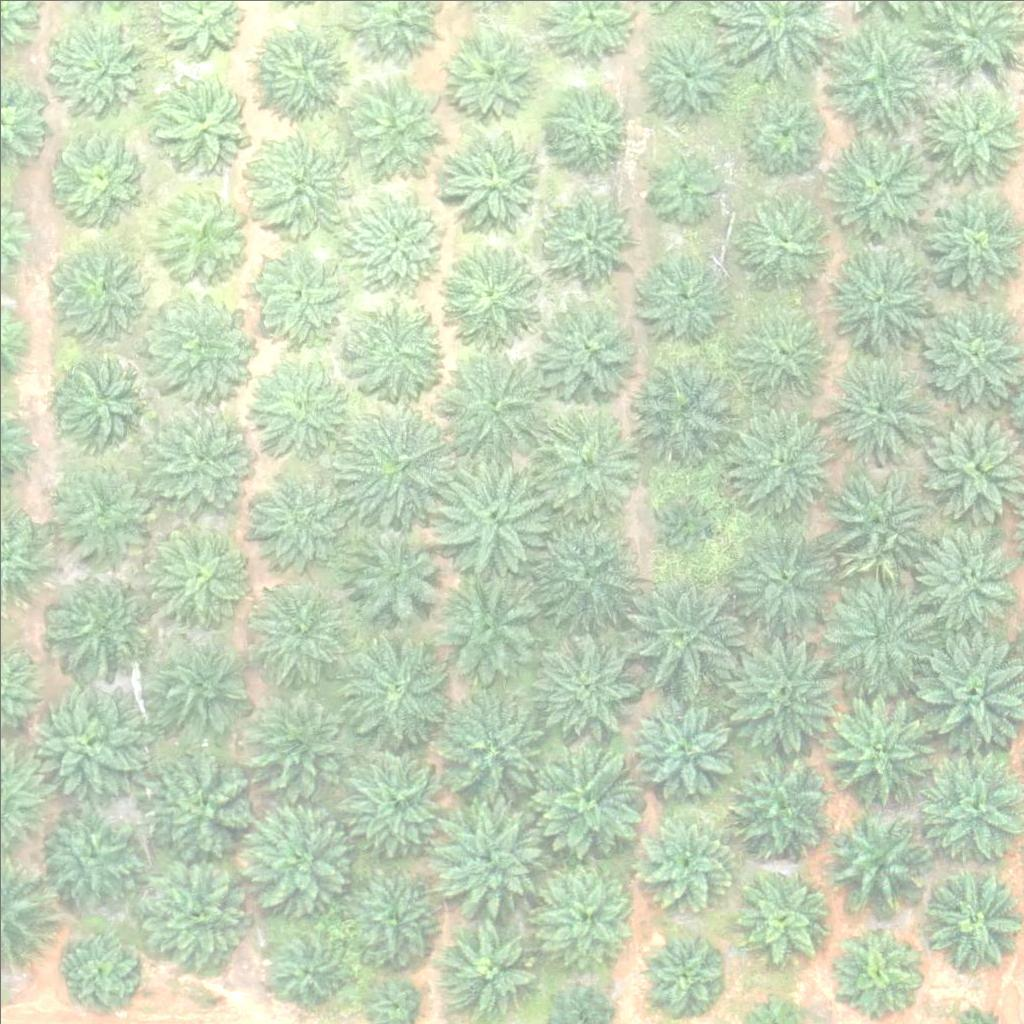Kelapa_Sawit: (820, 568, 945, 694), (724, 626, 849, 752), (619, 567, 744, 693), (518, 736, 643, 862), (522, 507, 647, 633), (435, 687, 560, 813), (425, 456, 550, 582), (330, 625, 455, 751), (335, 400, 460, 526), (130, 852, 255, 978), (142, 741, 267, 867), (137, 394, 262, 520), (22, 677, 147, 803), (429, 342, 554, 468), (334, 734, 459, 859), (815, 15, 940, 140), (822, 689, 935, 803), (722, 748, 835, 862), (623, 353, 736, 467), (730, 522, 843, 635), (725, 405, 838, 518), (433, 800, 546, 913), (432, 568, 545, 681), (337, 512, 450, 625), (238, 458, 351, 571), (146, 283, 259, 396), (250, 350, 363, 463), (817, 240, 930, 353), (820, 127, 933, 240), (526, 404, 638, 518), (824, 470, 936, 583), (623, 688, 735, 801), (532, 631, 644, 744), (245, 797, 357, 910), (244, 685, 356, 798), (727, 291, 839, 404), (822, 357, 934, 470), (639, 807, 739, 908), (535, 866, 635, 967), (435, 918, 535, 1019), (346, 864, 446, 965), (147, 630, 247, 731), (146, 529, 246, 630), (39, 574, 139, 675), (51, 469, 151, 570), (55, 352, 155, 453), (53, 240, 153, 341), (45, 128, 145, 229), (50, 23, 150, 124), (150, 183, 250, 284), (248, 242, 348, 343), (250, 131, 350, 232), (347, 298, 447, 399), (638, 20, 738, 121), (733, 189, 833, 290), (922, 299, 1022, 400), (922, 873, 1022, 973), (827, 815, 927, 915), (41, 806, 141, 906), (255, 16, 355, 116), (345, 190, 445, 290), (346, 79, 446, 179), (442, 241, 542, 341), (442, 131, 542, 231), (440, 19, 540, 119), (542, 297, 642, 397), (535, 184, 635, 284), (634, 242, 734, 342), (152, 69, 251, 170), (736, 875, 824, 963), (637, 926, 725, 1014), (256, 587, 344, 675), (743, 86, 831, 174), (831, 921, 918, 1009), (551, 84, 638, 172), (59, 933, 134, 1009), (648, 151, 723, 227), (268, 931, 343, 1006), (651, 484, 714, 547)
